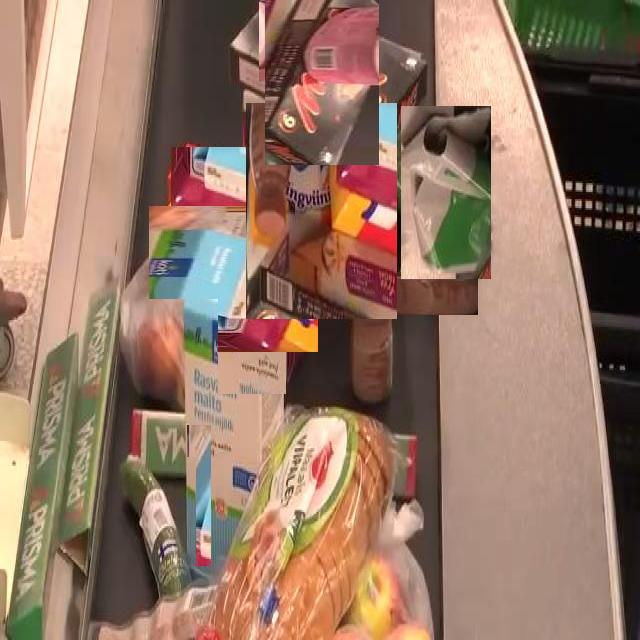beverage: (186, 248, 286, 566), (311, 230, 437, 356)
food-box: (211, 394, 393, 640), (245, 102, 397, 319), (154, 200, 312, 358), (244, 0, 400, 145), (170, 146, 306, 300), (259, 0, 341, 82)
fruit: (284, 530, 454, 636)
utility-box: (400, 105, 491, 279)
vegetable: (116, 299, 218, 425), (119, 457, 196, 604)
